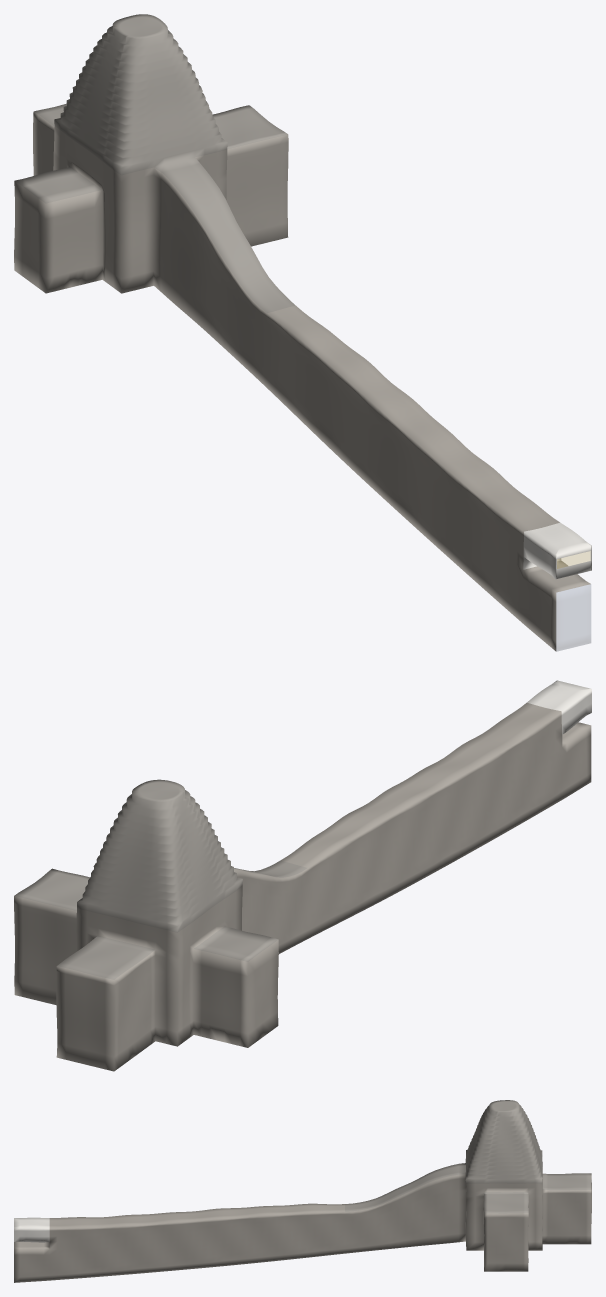
File: newgrange_acoustic_interior.glb
The picture shows the model from 3 angles, top to bottom: view 1: azimuth 30°, elevation 25°; view 2: azimuth 150°, elevation 25°; view 3: azimuth 270°, elevation 25°; orthographic projection. The views are drawn at different scales.
Visible parts, largest first — view 1: newgrange_acoustic_interior; view 2: newgrange_acoustic_interior; view 3: newgrange_acoustic_interior.
Part boxes in pixels (bbox=[...]): newgrange_acoustic_interior: bbox=[14, 14, 591, 651]; newgrange_acoustic_interior: bbox=[14, 680, 591, 1071]; newgrange_acoustic_interior: bbox=[14, 1100, 591, 1282].
Size of the model in its own units: 6.57 by 7.97 by 24.22.
